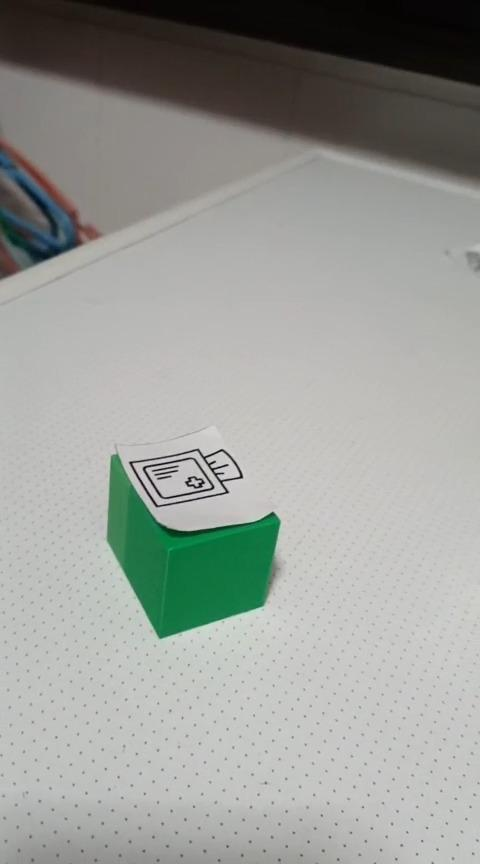Gauze: (105, 424, 281, 639)
